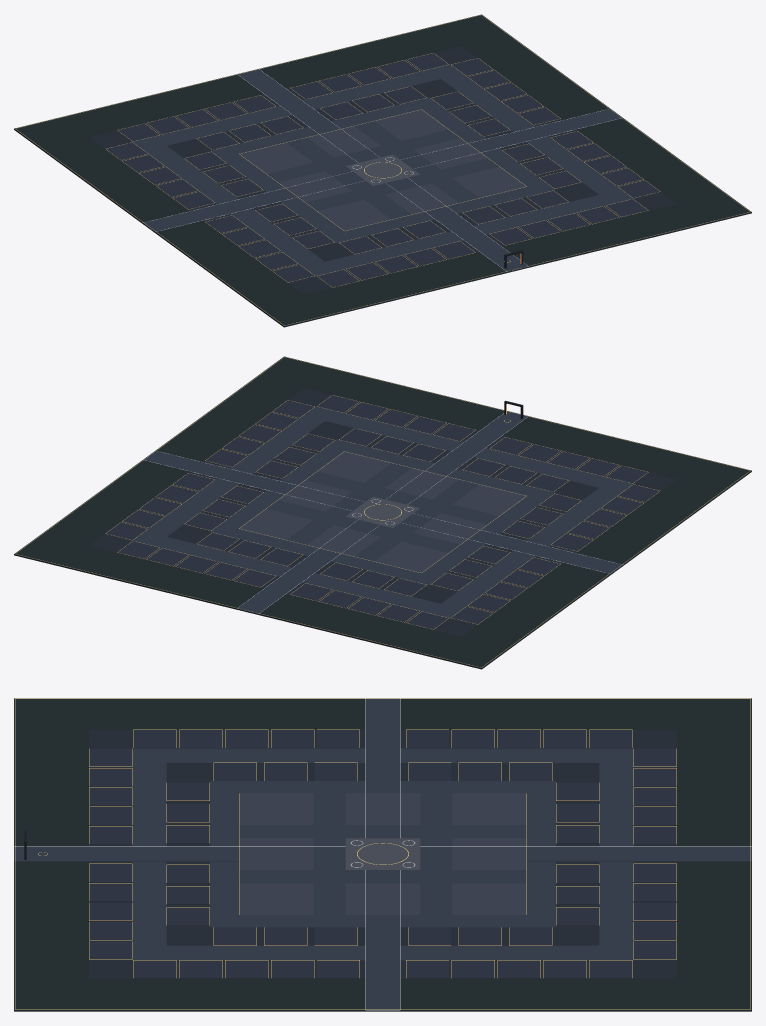
3 views of the same model, one above another, from view 1: azimuth 30°, elevation 25°; view 2: azimuth 150°, elevation 25°; view 3: azimuth 270°, elevation 25° (orthographic). The views are drawn at different scales.
Parts seen in each view (by area): view 1: district_vertical.lod1; view 2: district_vertical.lod1; view 3: district_vertical.lod1.
Boxes of the visible parts, left/top/right/bottom form: district_vertical.lod1: left=14, top=14, right=751, bottom=327; district_vertical.lod1: left=14, top=356, right=751, bottom=669; district_vertical.lod1: left=14, top=698, right=751, bottom=1011.
Size of the model in its own units: 256 by 7.62 by 256.
